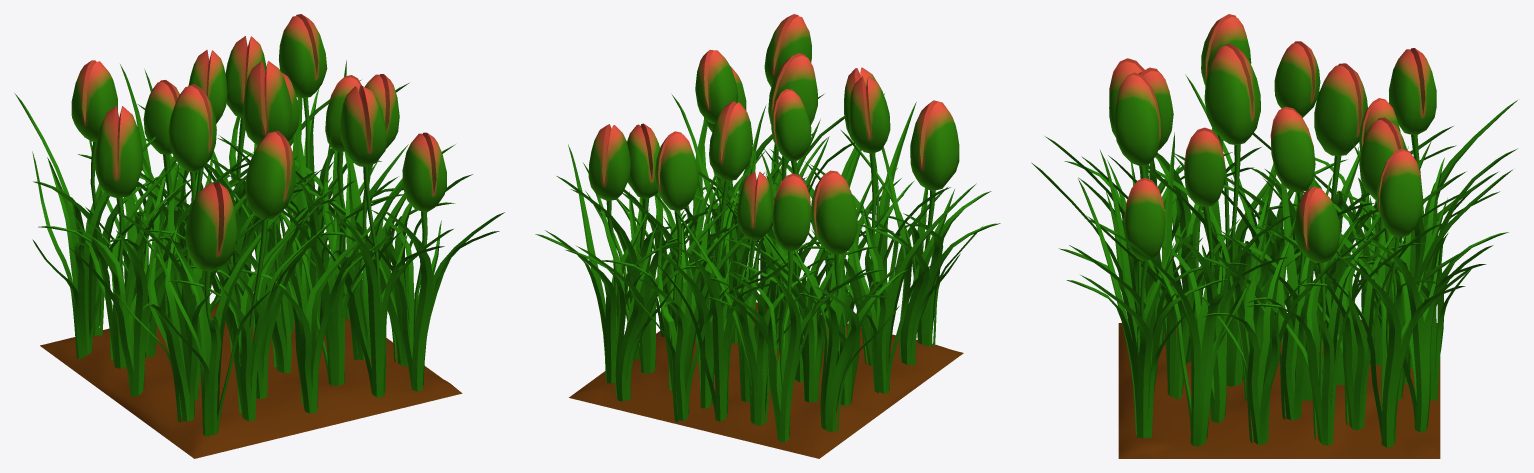
Rendered from red-tulip-p4-leaf.glb.
The picture shows the model from 3 angles, left to right: view 1: azimuth 30°, elevation 25°; view 2: azimuth 150°, elevation 25°; view 3: azimuth 270°, elevation 25°; orthographic projection. The views are drawn at different scales.
Visible parts, largest first — view 1: 4_nft_out_of _bloom; view 2: 4_nft_out_of _bloom; view 3: 4_nft_out_of _bloom.
Boxes of the visible parts, left/top/right/bottom form: 4_nft_out_of _bloom: left=14, top=14, right=504, bottom=458; 4_nft_out_of _bloom: left=535, top=14, right=1000, bottom=458; 4_nft_out_of _bloom: left=1031, top=14, right=1517, bottom=458.
Bounding box in the file's own units: 0.9577 × 0.8188 × 1.07.
3 materials, 1 textured.
